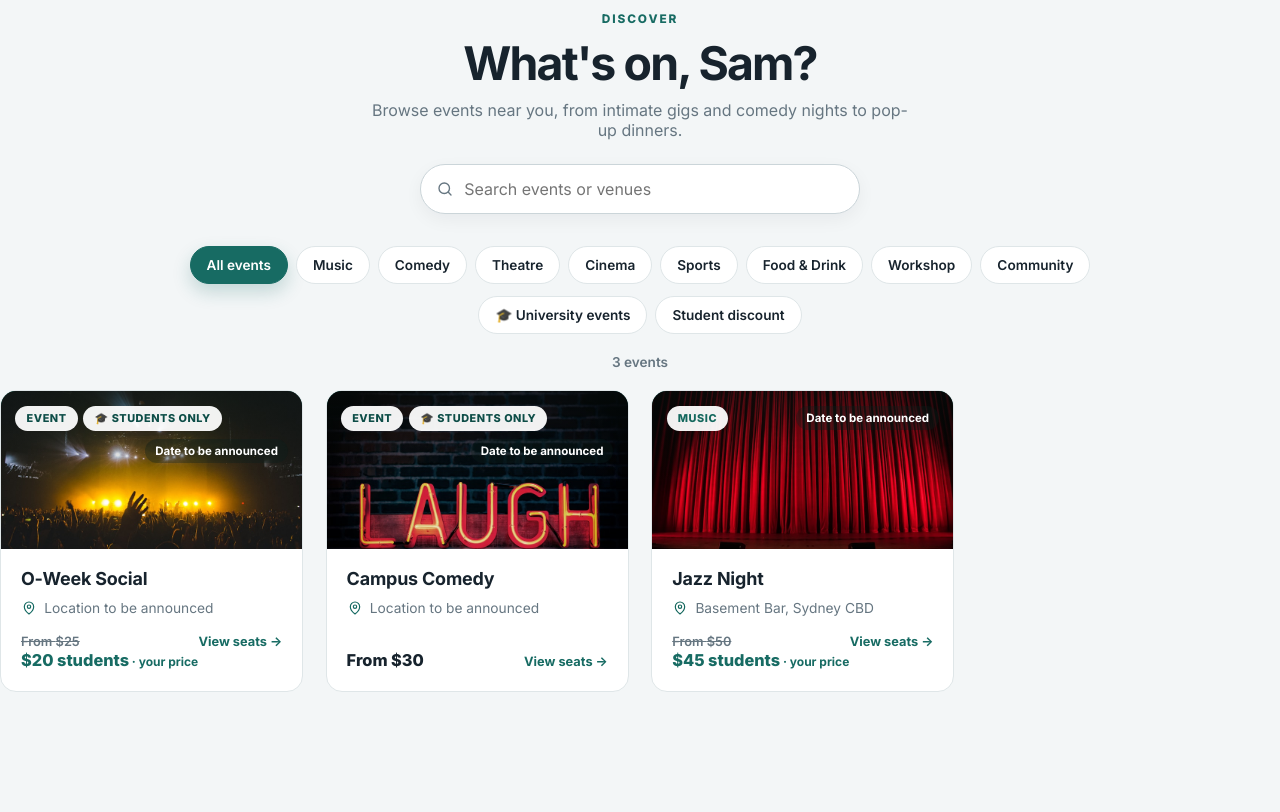
BrowseEventsPage student filters (US 12) › filters to university events
Expected: the heading "O-Week Social" is shown, [21, 568, 147, 589]
Click the button "🎓 University events". click: (563, 315)
box: [478, 296, 647, 334]
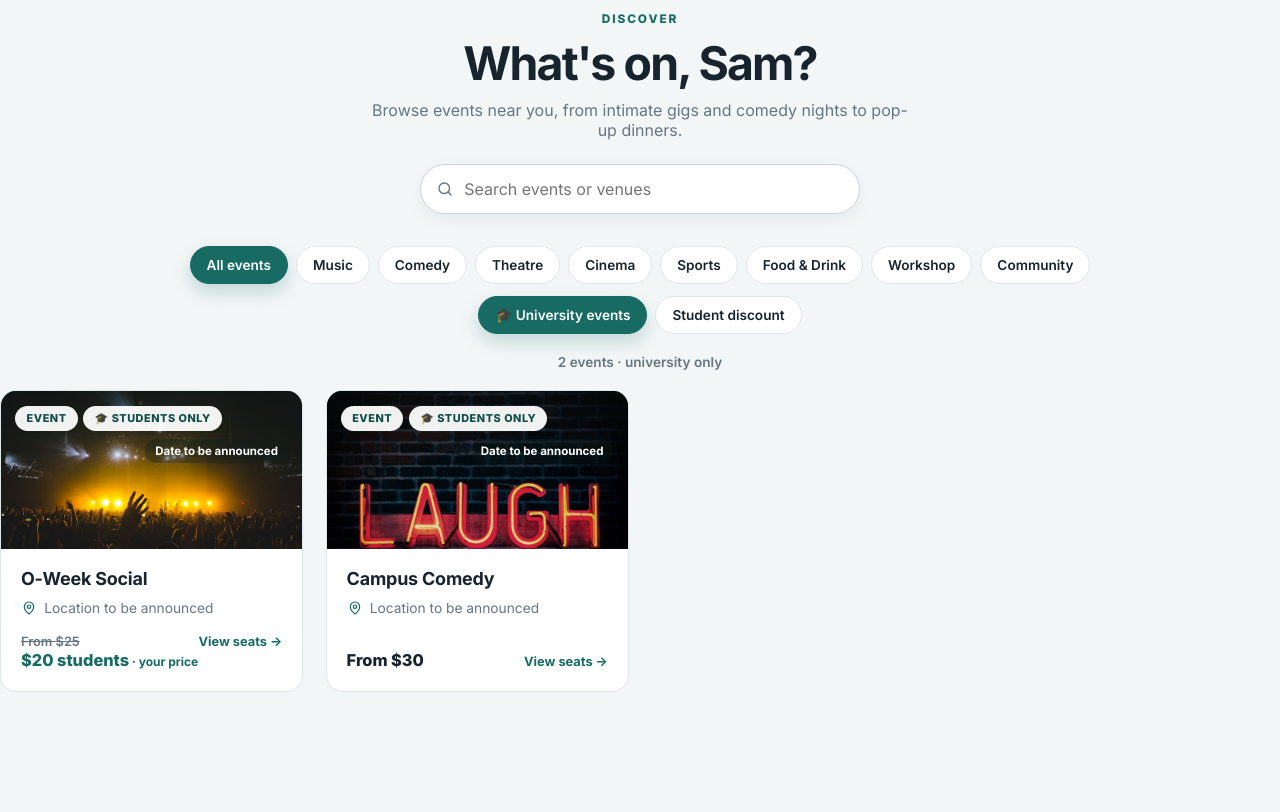
Expected: the heading "O-Week Social" is shown, [21, 568, 147, 589]
Expected: the link "Jazz Night" is gone
